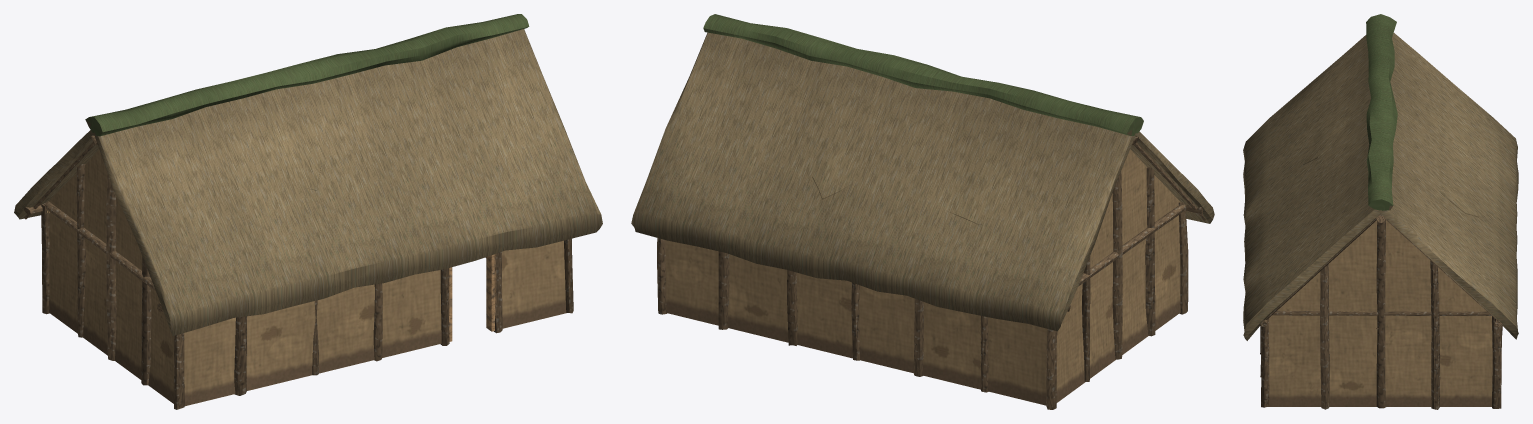
Rendered from house_005_plain.glb.
The picture shows the model from 3 angles, left to right: view 1: azimuth 30°, elevation 25°; view 2: azimuth 150°, elevation 25°; view 3: azimuth 270°, elevation 25°; orthographic projection. The views are drawn at different scales.
Visible parts, largest first — view 1: Roof, Wall, Frame, DoorRecess; view 2: Roof, Wall, Frame; view 3: Roof, Wall, Frame.
Boxes of the visible parts, x1=… form: Roof: x1=14, y1=14, x2=602, y2=335; Wall: x1=49, y1=149, x2=566, y2=406; Frame: x1=24, y1=135, x2=573, y2=409; DoorRecess: x1=448, y1=254, x2=494, y2=341; Roof: x1=631, y1=14, x2=1214, y2=331; Wall: x1=665, y1=149, x2=1180, y2=405; Frame: x1=657, y1=136, x2=1205, y2=409; Roof: x1=1243, y1=14, x2=1518, y2=340; Wall: x1=1268, y1=220, x2=1492, y2=406; Frame: x1=1260, y1=214, x2=1502, y2=409.
Size of the model in its own units: 9.39 by 5.18 by 5.88.
Materials: 3 (3 with a texture image).
